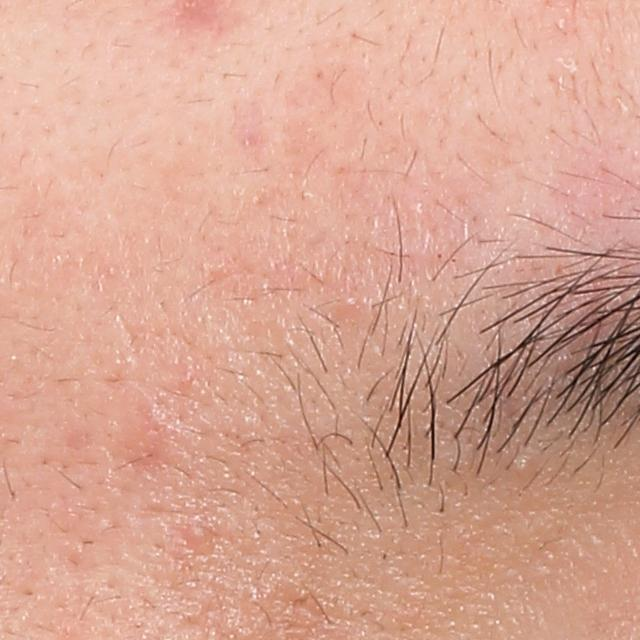comedo: (343, 293, 364, 313), (191, 526, 211, 545)
